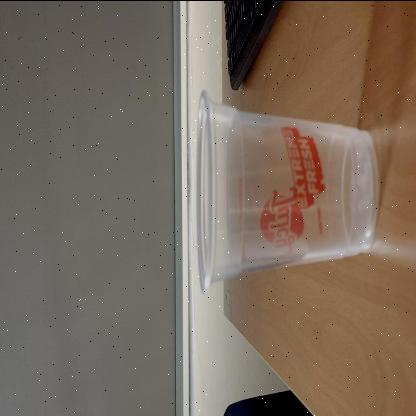Others: (196, 87, 378, 298)
